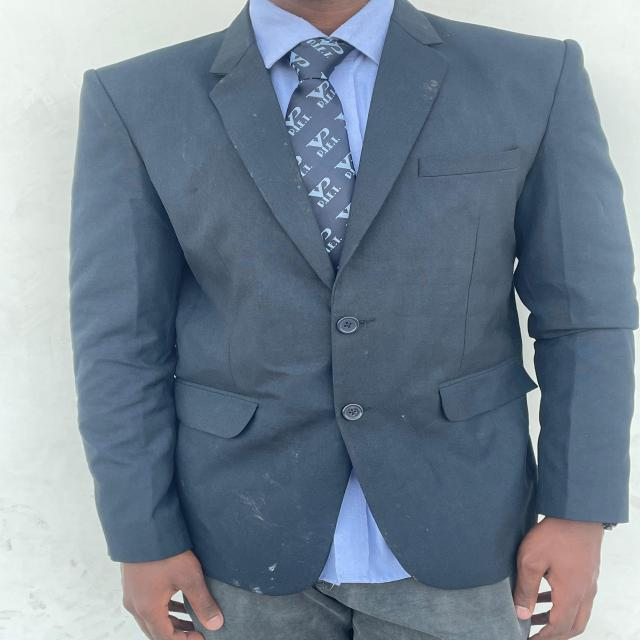Tie: (283, 36, 358, 270)
uniform: (67, 0, 638, 617)
